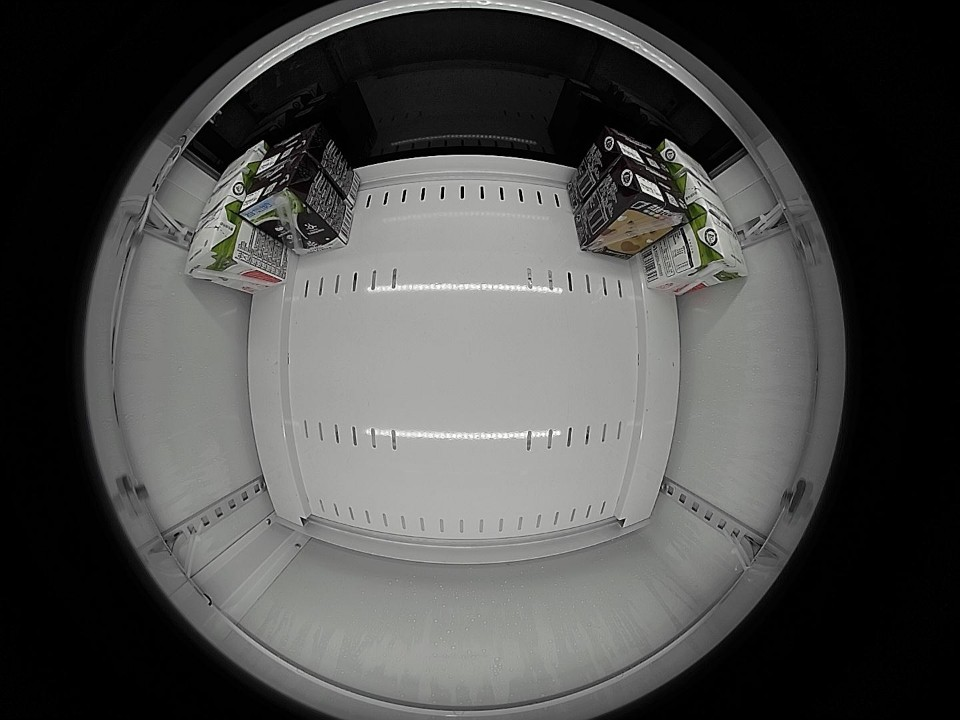mengniu: (184, 207, 247, 280), (689, 211, 748, 284), (658, 138, 719, 192), (198, 171, 253, 225), (679, 175, 735, 227), (212, 141, 268, 190)
weitanai2: (604, 158, 688, 229), (240, 153, 316, 227), (255, 125, 327, 177), (594, 127, 668, 175)
